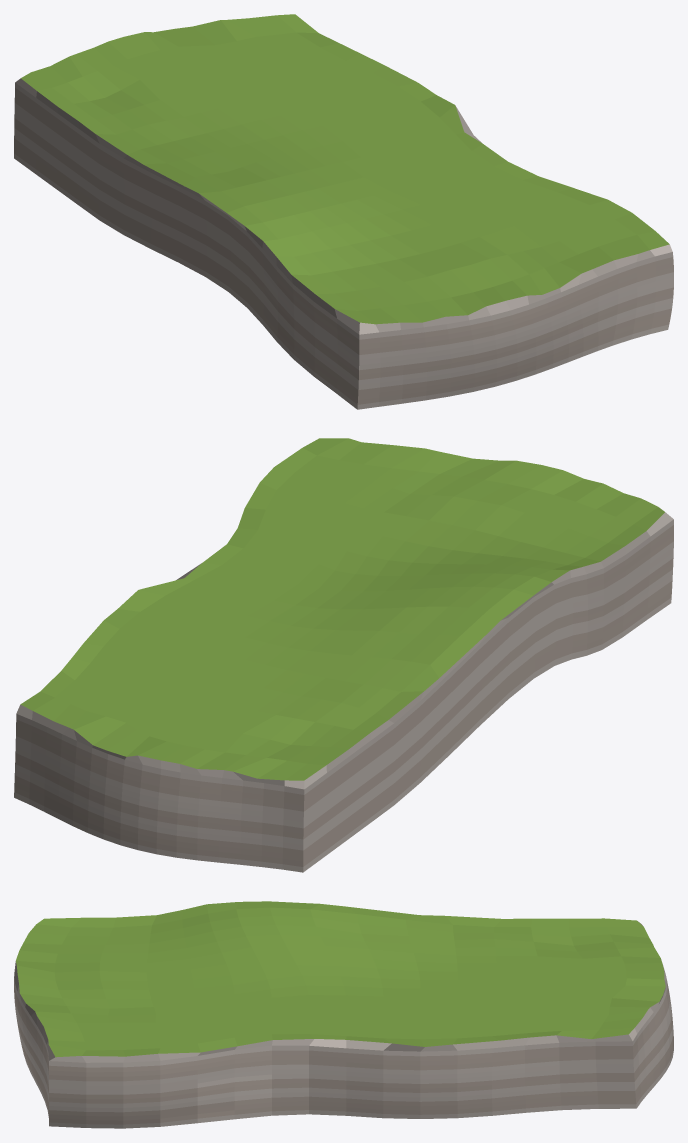
The model's file is SM_Island_Straight_1.fbx.
3 views of the same model, one above another, from view 1: azimuth 30°, elevation 25°; view 2: azimuth 150°, elevation 25°; view 3: azimuth 270°, elevation 25° (orthographic). The views are drawn at different scales.
Visible parts, largest first — view 1: pasted__pCube1; view 2: pasted__pCube1; view 3: pasted__pCube1.
Boxes of the visible parts, <box> form: pasted__pCube1: <box>14,14,673,409</box>; pasted__pCube1: <box>14,438,673,872</box>; pasted__pCube1: <box>14,901,673,1128</box>.
Bounding box in the file's own units: 127 × 38.57 × 253.
